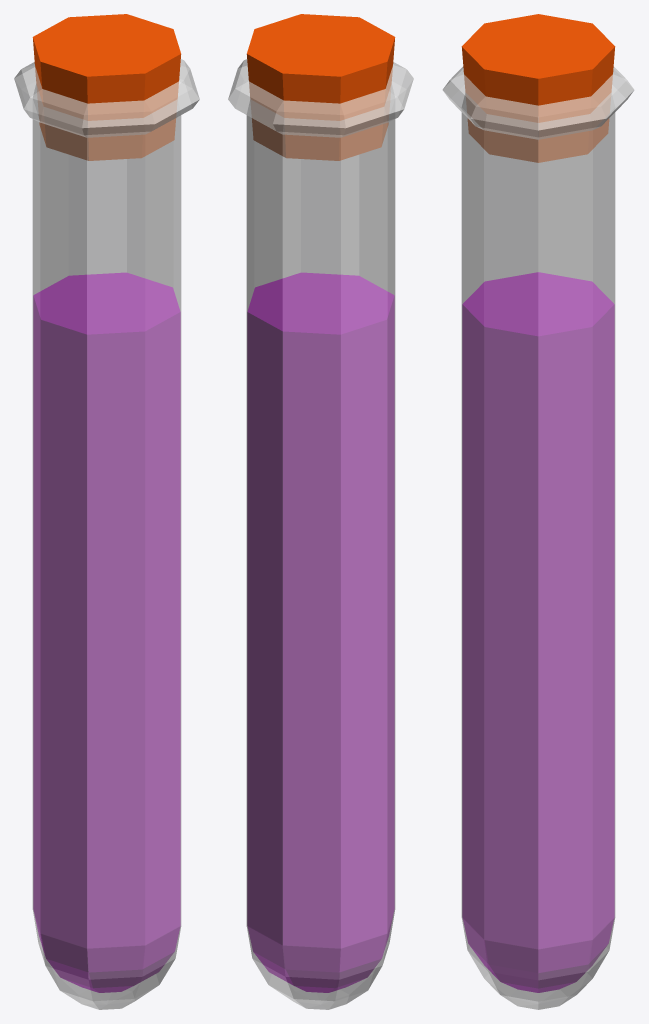
Rendered from poison.fbx.
3 views of the same model, side by side, from view 1: azimuth 30°, elevation 25°; view 2: azimuth 150°, elevation 25°; view 3: azimuth 270°, elevation 25° (orthographic).
Visible parts, largest first — view 1: 球, 球.001, 円; view 2: 球, 球.001, 円; view 3: 球, 球.001, 円.
Boxes of the visible parts, bbox=[...] form: 球: bbox=[14, 59, 199, 1009]; 球.001: bbox=[33, 273, 180, 992]; 円: bbox=[32, 14, 181, 160]; 球: bbox=[228, 59, 413, 1009]; 球.001: bbox=[247, 273, 394, 992]; 円: bbox=[246, 14, 395, 160]; 球: bbox=[442, 66, 634, 1009]; 球.001: bbox=[462, 272, 614, 992]; 円: bbox=[461, 14, 615, 162].
Size of the model in its own units: 200 by 1100 by 200.
